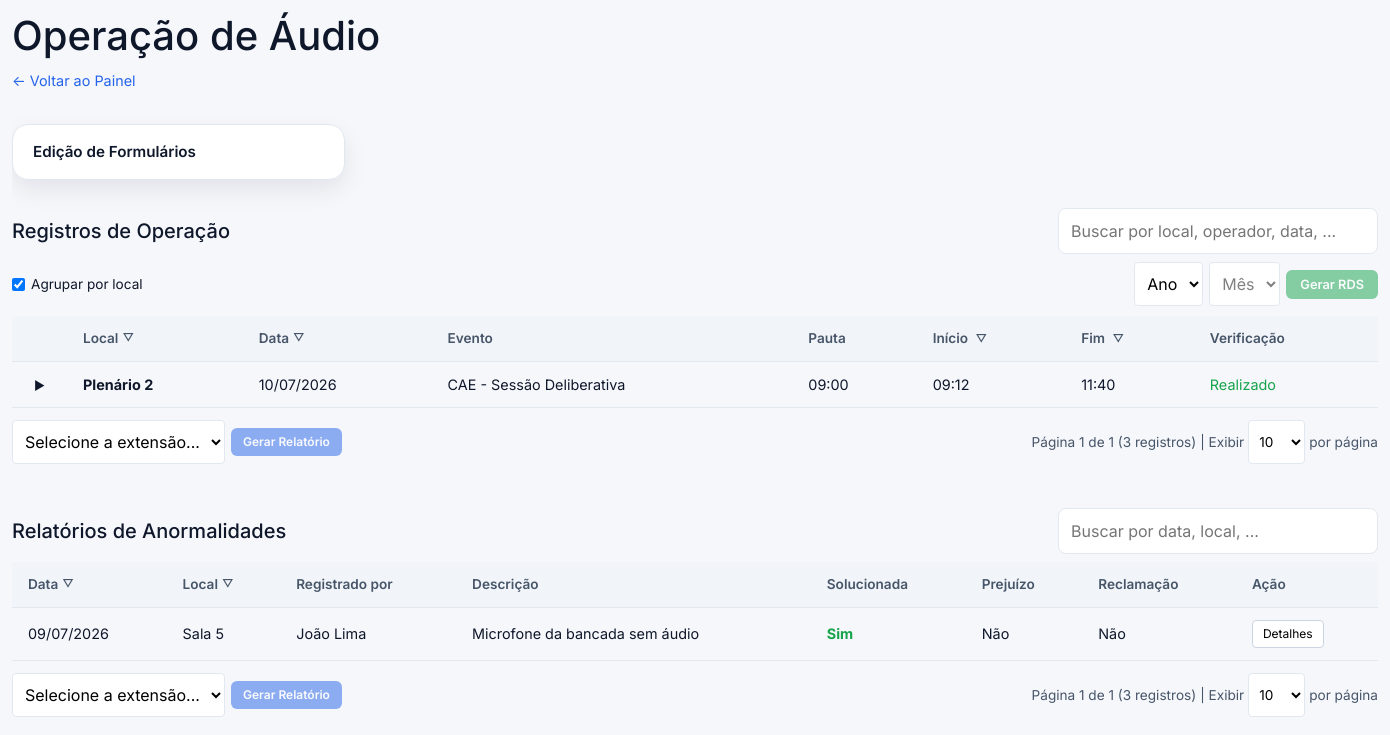
Test: AdminOperacaoAudioComponent — canal de erro das 3 listagens › acordeões › entradas da sessão (modo agrupado) › vazio LEGÍTIMO (200 com data:[]): a frase do vazio, SEM caixa
Click the row with class "row-clickable".
click(695, 385)  # box [12, 361, 1378, 408]
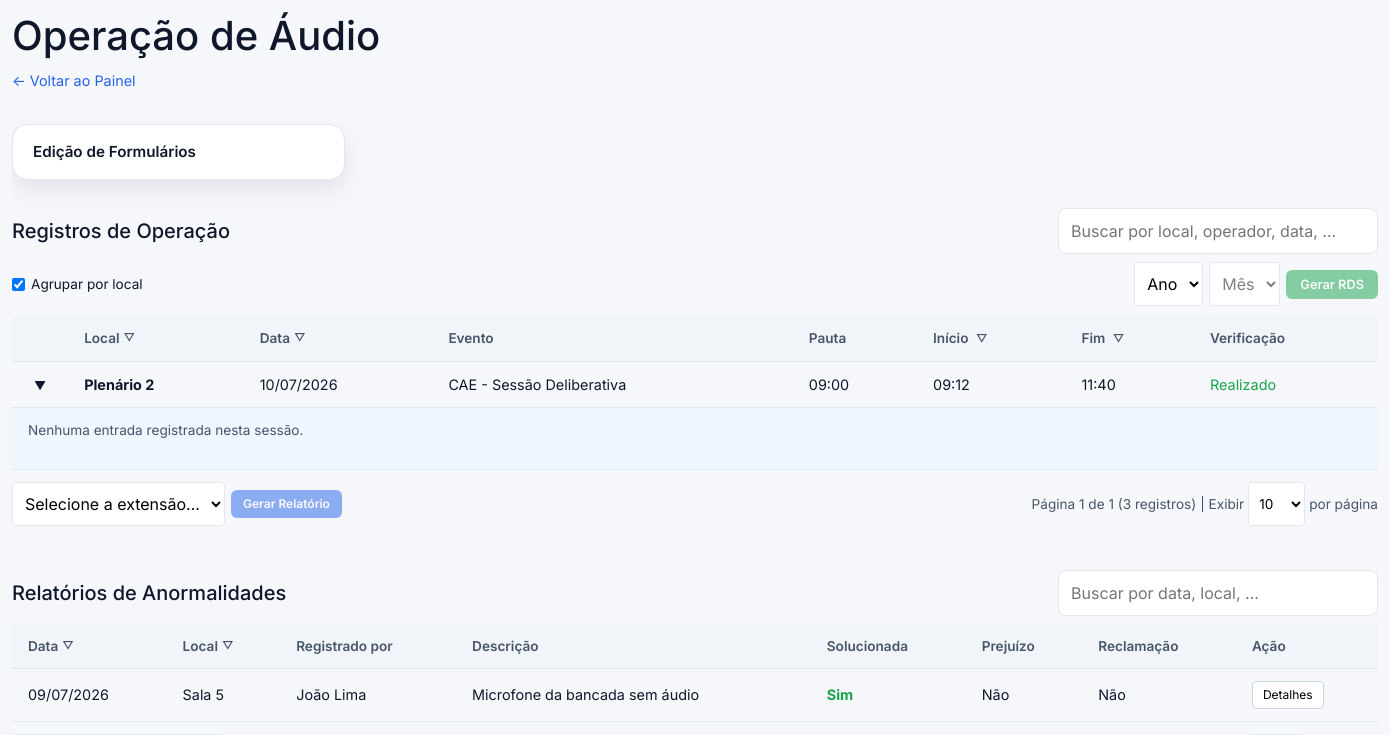
Expected: the table that starts with "Plenário 2" shows "Nenhuma entrada registrada nesta sessão.", [28, 422, 303, 438]
